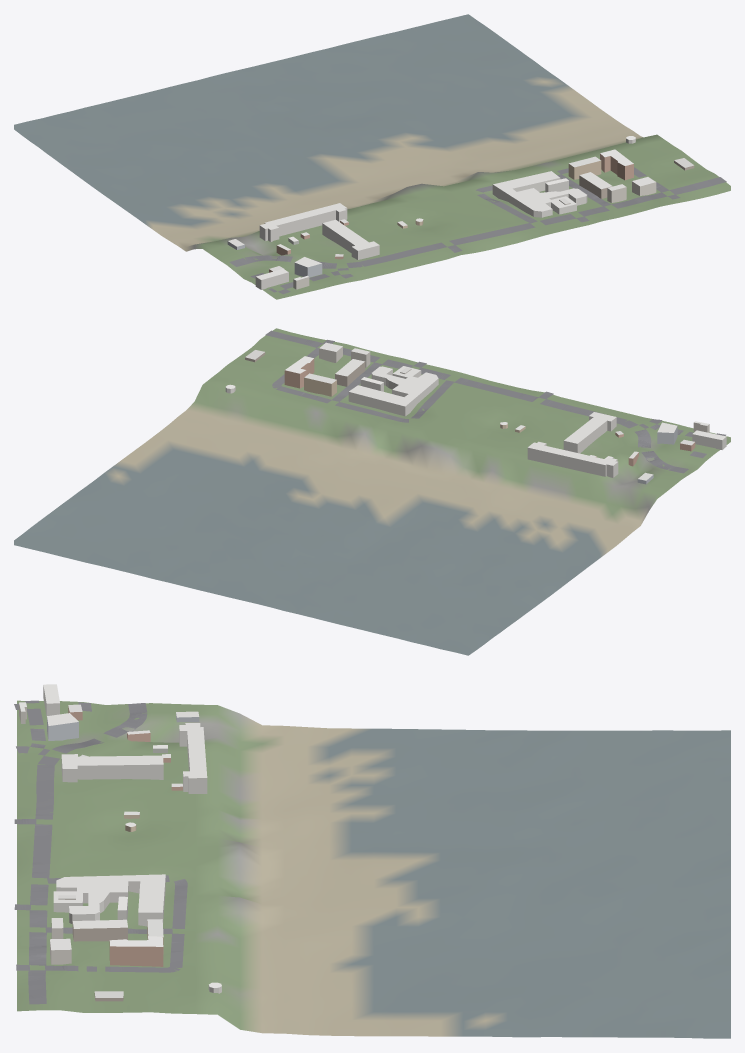
3 views of the same model, one above another, from view 1: azimuth 30°, elevation 25°; view 2: azimuth 150°, elevation 25°; view 3: azimuth 270°, elevation 25° (orthographic). The views are drawn at different scales.
Parts seen in each view (by area): view 1: prim0, prim1, prim2; view 2: prim0, prim1, prim2; view 3: prim0, prim1, prim2.
Boxes of the visible parts, <box> form: prim0: <box>14,14,730,299</box>; prim1: <box>227,136,694,289</box>; prim2: <box>229,167,726,294</box>; prim0: <box>14,328,730,655</box>; prim1: <box>225,342,726,484</box>; prim2: <box>265,330,725,473</box>; prim0: <box>17,700,730,1038</box>; prim1: <box>19,684,221,1001</box>; prim2: <box>14,700,187,1004</box>.
Size of the model in its own units: 520 by 40.26 by 514.
